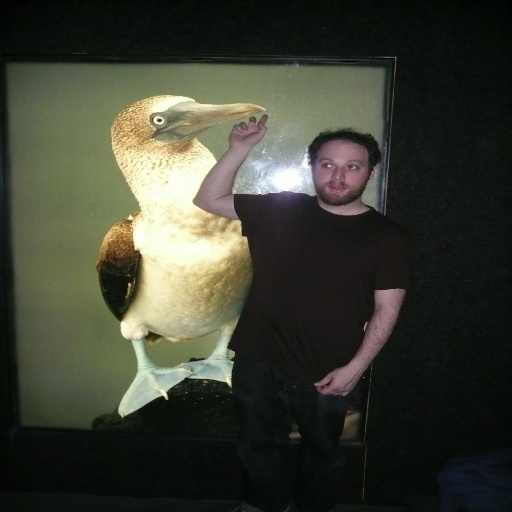hand: (318, 358, 369, 403), (225, 113, 268, 148)
